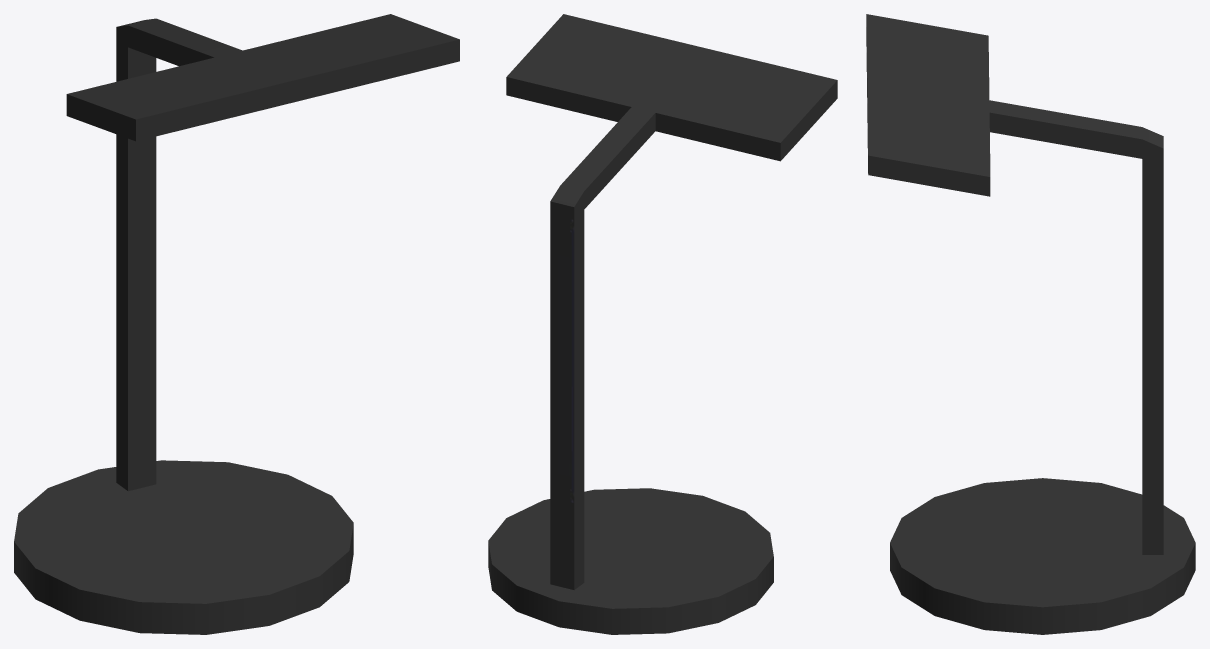
The picture shows the model from 3 angles, left to right: view 1: azimuth 30°, elevation 25°; view 2: azimuth 150°, elevation 25°; view 3: azimuth 270°, elevation 25°; orthographic projection. The views are drawn at different scales.
Parts seen in each view (by area): view 1: pCylinder1; view 2: pCylinder1; view 3: pCylinder1.
Boxes of the visible parts, left/top/right/bottom form: pCylinder1: left=14, top=14, right=459, bottom=634; pCylinder1: left=488, top=14, right=837, bottom=634; pCylinder1: left=866, top=14, right=1195, bottom=634.
Bounding box in the file's own units: 1.24 × 2 × 1.21.
1 material, 1 textured.
